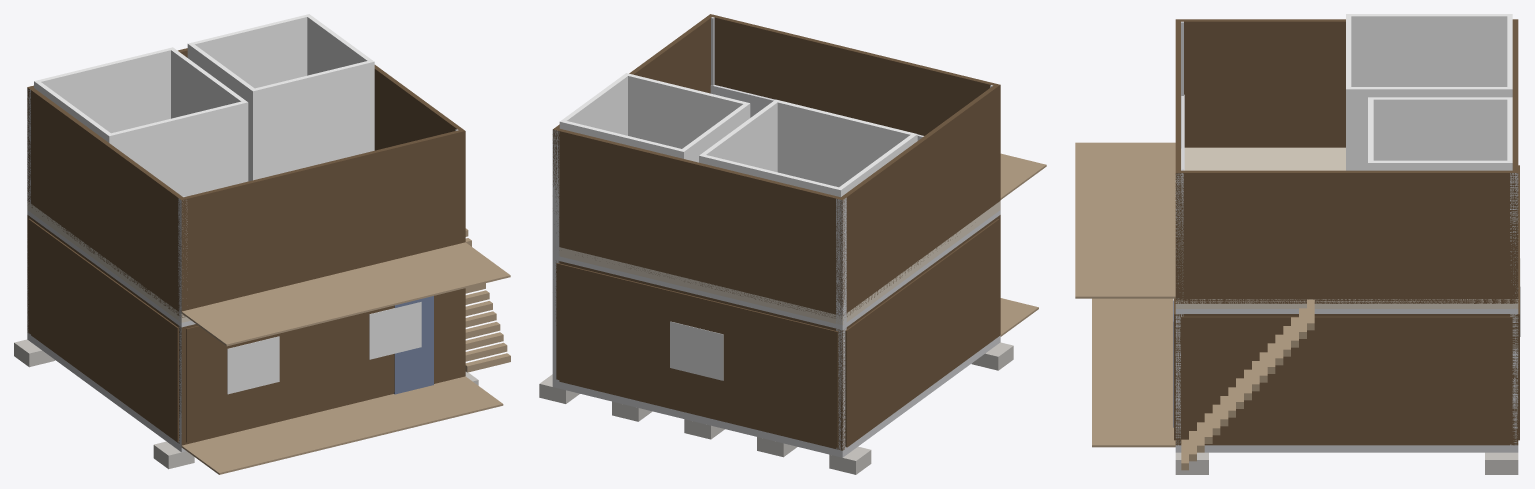
The model's file is Duplex-20-Base-WengeWood-LOD0.glb.
3 views of the same model, side by side, from view 1: azimuth 30°, elevation 25°; view 2: azimuth 150°, elevation 25°; view 3: azimuth 270°, elevation 25° (orthographic). The views are drawn at different scales.
Visible parts, largest first — view 1: ExteriorShellUpper, ExteriorPanelsStandard, StudyUpper, BedroomUpper, BalconyUpper, BalconyGround, WindowsStandard, StaircaseExternal, ExteriorShell, EntryDoor, FoundationBlocks, FloorUpper (+3 smaller); view 2: ExteriorShellUpper, ExteriorPanelsStandard, BedroomUpper, StudyUpper, FloorUpper, VerticalStructure, FoundationBlocks, BaseFrame, ExteriorShell, WindowsStandard, TopFrame, BalconyUpper (+2 smaller); view 3: ExteriorShellUpper, ExteriorPanelsStandard, BalconyUpper, BedroomUpper, BalconyGround, StudyUpper, FloorUpper, StaircaseExternal, ExteriorShell, BaseFrame, VerticalStructure, TopFrame (+1 smaller).
Boxes of the visible parts, x1=… form: ExteriorShellUpper: x1=27, y1=48, x2=465, y2=317; ExteriorPanelsStandard: x1=28, y1=218, x2=461, y2=442; StudyUpper: x1=187, y1=14, x2=374, y2=181; BedroomUpper: x1=34, y1=47, x2=248, y2=196; BalconyUpper: x1=181, y1=242, x2=510, y2=346; BalconyGround: x1=181, y1=376, x2=503, y2=474; WindowsStandard: x1=227, y1=302, x2=421, y2=394; StaircaseExternal: x1=465, y1=228, x2=510, y2=372; ExteriorShell: x1=27, y1=215, x2=465, y2=445; EntryDoor: x1=394, y1=296, x2=433, y2=394; FoundationBlocks: x1=14, y1=339, x2=478, y2=469; FloorUpper: x1=27, y1=201, x2=190, y2=322; ExteriorShellUpper: x1=552, y1=14, x2=1000, y2=318; ExteriorPanelsStandard: x1=556, y1=219, x2=999, y2=447; BedroomUpper: x1=699, y1=99, x2=917, y2=197; StudyUpper: x1=559, y1=73, x2=750, y2=162; FloorUpper: x1=558, y1=201, x2=1000, y2=325; VerticalStructure: x1=552, y1=17, x2=998, y2=449; FoundationBlocks: x1=539, y1=342, x2=1013, y2=474; BaseFrame: x1=552, y1=335, x2=1000, y2=457; ExteriorShell: x1=556, y1=215, x2=1000, y2=450; WindowsStandard: x1=670, y1=321, x2=723, y2=380; TopFrame: x1=555, y1=210, x2=1000, y2=329; BalconyUpper: x1=1000, y1=153, x2=1046, y2=199; ExteriorShellUpper: x1=1175, y1=19, x2=1518, y2=303; ExteriorPanelsStandard: x1=1174, y1=165, x2=1519, y2=443; BalconyUpper: x1=1075, y1=142, x2=1175, y2=298; BedroomUpper: x1=1346, y1=14, x2=1512, y2=170; BalconyGround: x1=1092, y1=298, x2=1175, y2=447; StudyUpper: x1=1368, y1=97, x2=1512, y2=170; FloorUpper: x1=1175, y1=147, x2=1518, y2=308; StaircaseExternal: x1=1181, y1=299, x2=1314, y2=470; ExteriorShell: x1=1175, y1=314, x2=1518, y2=445; BaseFrame: x1=1175, y1=445, x2=1518, y2=452; VerticalStructure: x1=1175, y1=21, x2=1518, y2=445; TopFrame: x1=1175, y1=309, x2=1518, y2=313.
Size of the model in its own units: 7.94 by 6 by 8.
